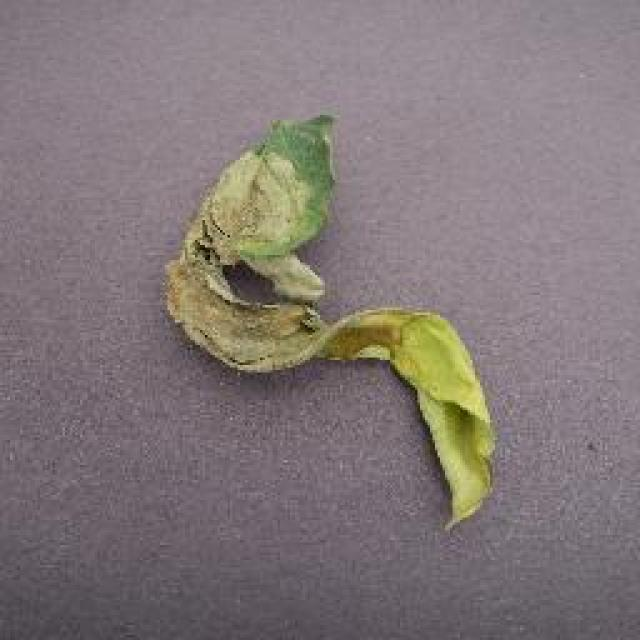Tomato Late Blight: (146, 114, 402, 374)
